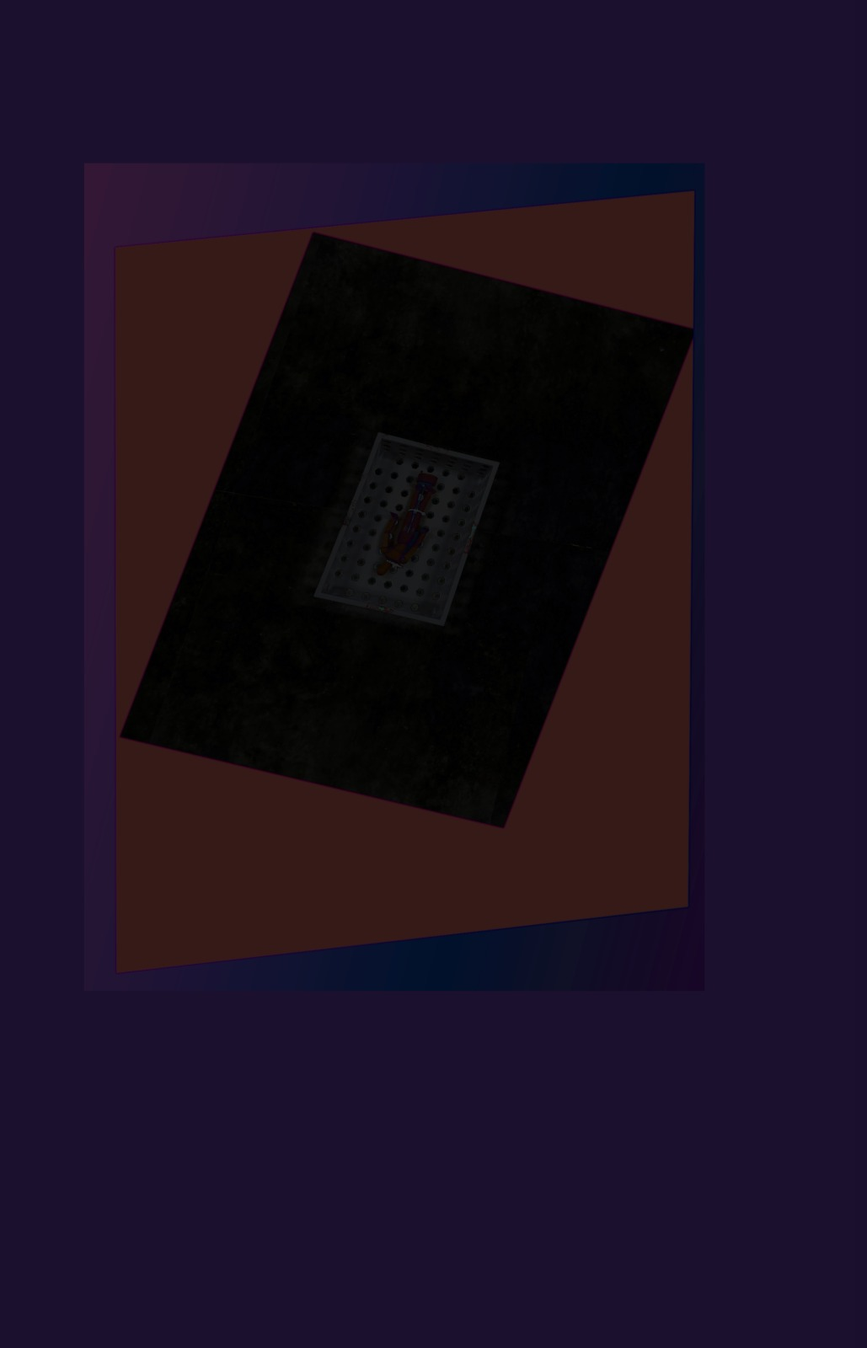basket: (303, 421, 510, 638)
mannequin: (375, 466, 444, 592)
